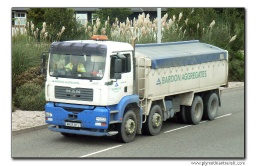truck: (40, 27, 232, 145)
